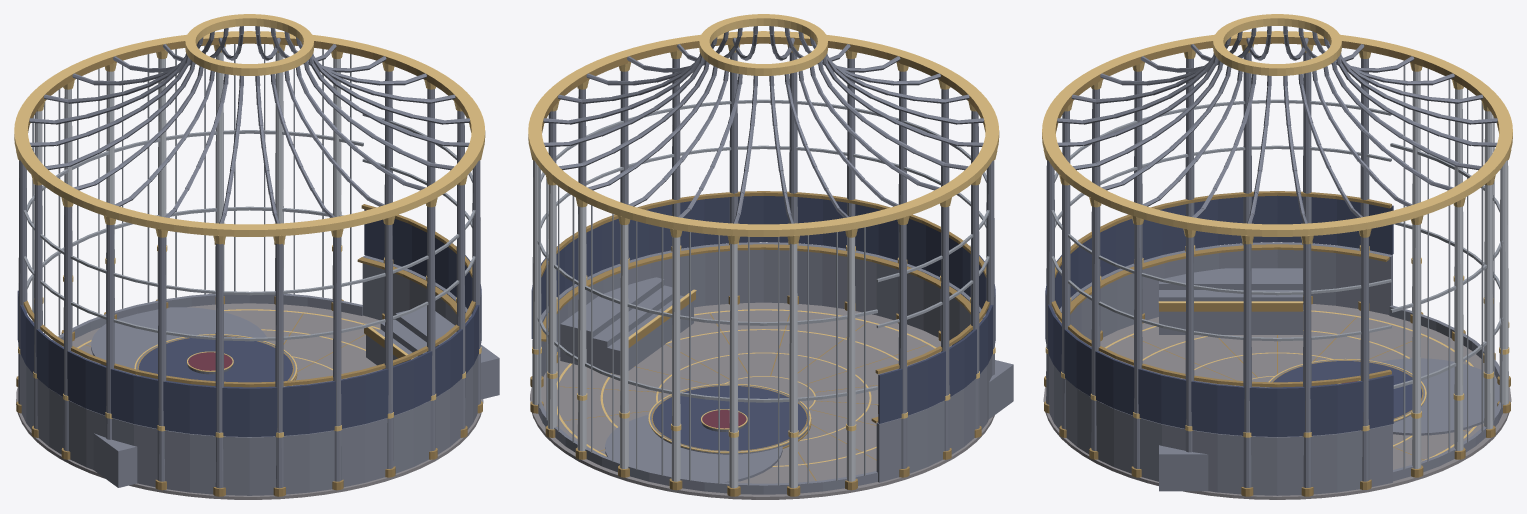
The model's file is Hall.obj.
3 renders of one model, left to right at view 1: azimuth 30°, elevation 25°; view 2: azimuth 150°, elevation 25°; view 3: azimuth 270°, elevation 25°, orthographic.
Visible parts, largest first — view 1: Hall; view 2: Hall; view 3: Hall.
Boxes of the visible parts, x1,y1,x2,y2 form: Hall: (14,14,499,499); Hall: (528,14,1013,499); Hall: (1042,14,1512,499).
Bounding box in the file's own units: 55.6 × 46.9 × 55.6.
Materials: 1 (1 with a texture image).
